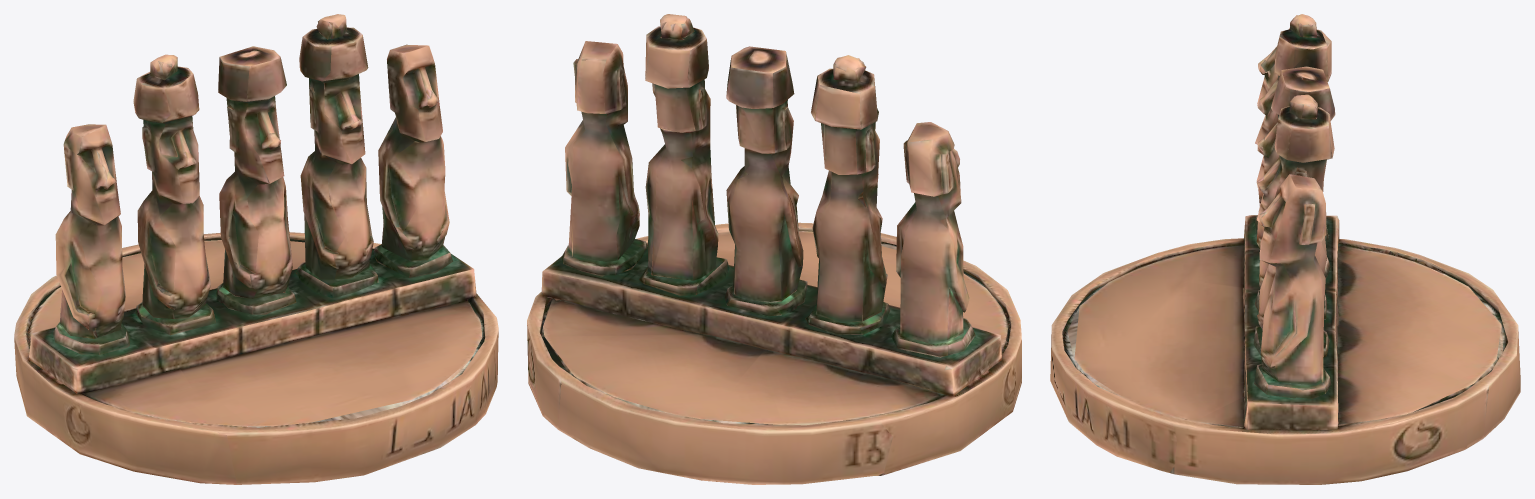
File: easter_island.glb
3 views of the same model, side by side, from view 1: azimuth 30°, elevation 25°; view 2: azimuth 150°, elevation 25°; view 3: azimuth 270°, elevation 25° (orthographic). The views are drawn at different scales.
Visible parts, largest first — view 1: Mesh_0; view 2: Mesh_0; view 3: Mesh_0.
Boxes of the visible parts, left/top/right/bottom form: Mesh_0: left=14, top=14, right=498, bottom=484; Mesh_0: left=527, top=14, right=1021, bottom=484; Mesh_0: left=1050, top=14, right=1520, bottom=484.
Bounding box in the file's own units: 1.89 × 1.49 × 1.9.
Materials: 1 (1 with a texture image).
